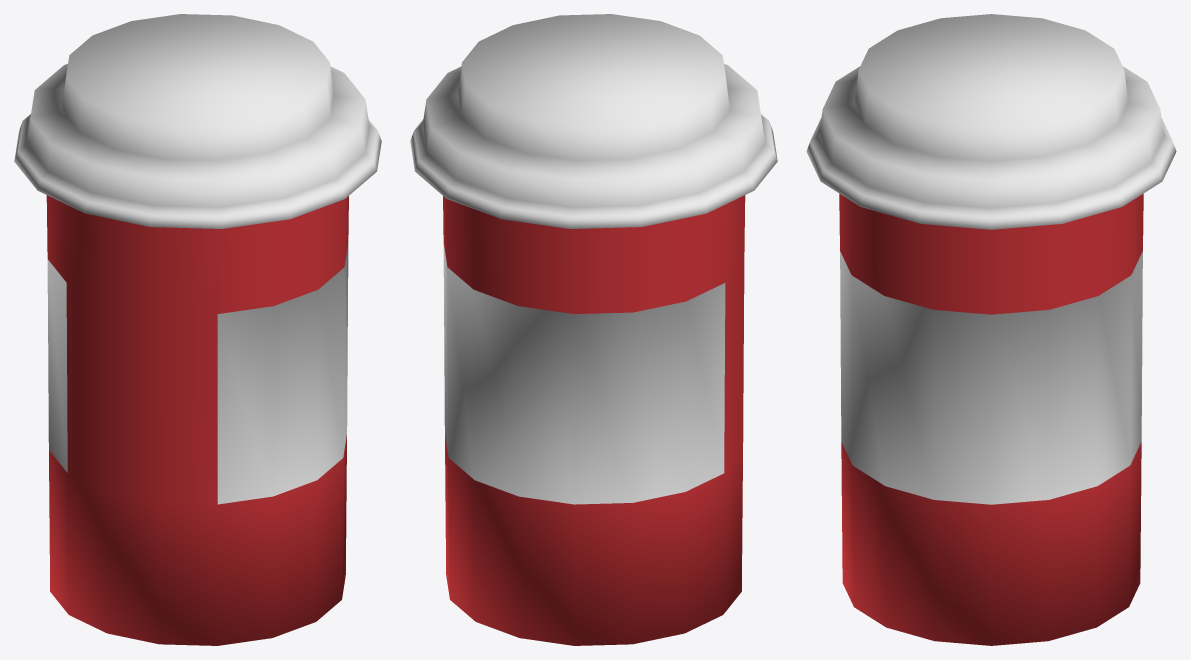
Rendered from PillBottle.fbx.
3 renders of one model, left to right at view 1: azimuth 30°, elevation 25°; view 2: azimuth 150°, elevation 25°; view 3: azimuth 270°, elevation 25°, orthographic.
Visible parts, largest first — view 1: Bottle, Cap; view 2: Cap, Bottle; view 3: Cap, Bottle.
Part boxes in pixels (left/top/right/bottom): Bottle: left=46, top=195, right=348, bottom=645; Cap: left=14, top=14, right=381, bottom=504; Cap: left=410, top=14, right=777, bottom=504; Bottle: left=443, top=195, right=745, bottom=645; Cap: left=806, top=14, right=1176, bottom=504; Bottle: left=839, top=193, right=1143, bottom=645.
Size of the model in its own units: 11.62 by 17.77 by 11.62.
